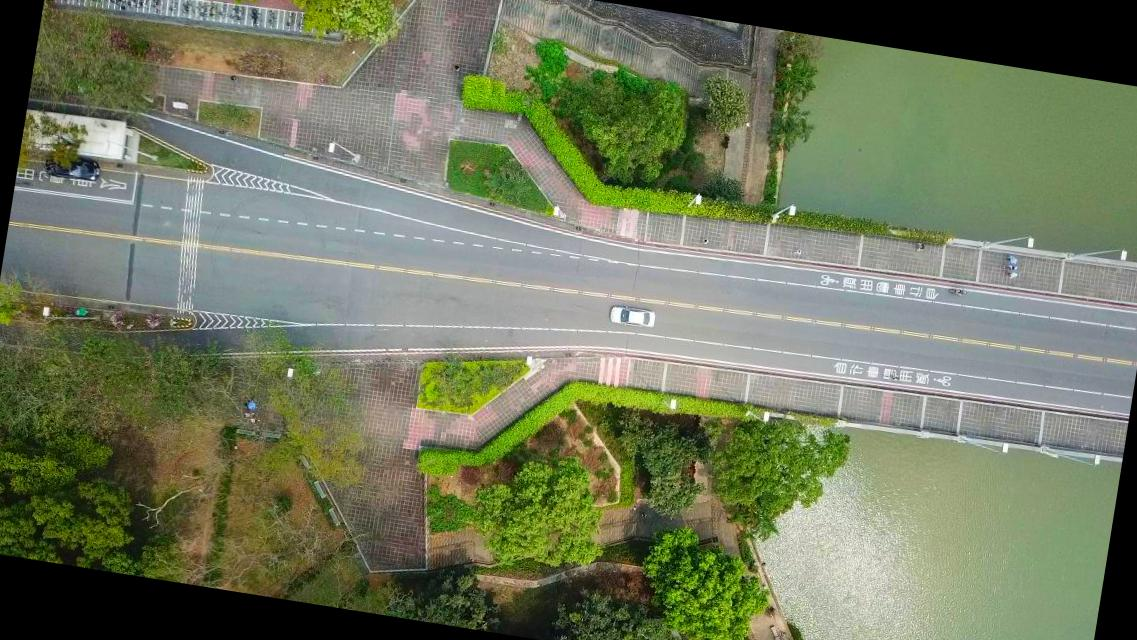vehicle: (44, 150, 102, 183), (607, 302, 656, 330)
